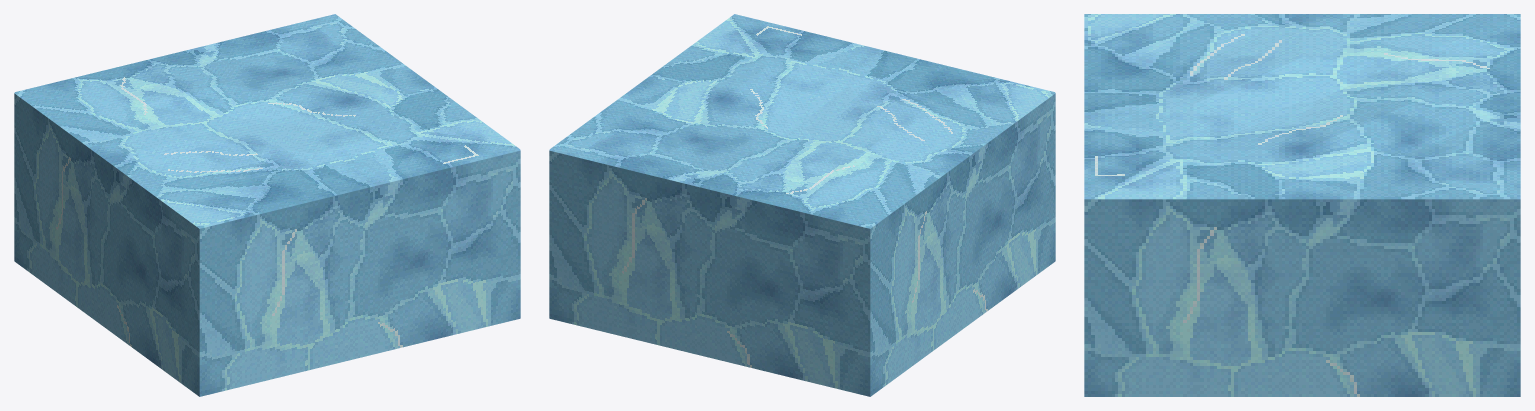
The model's file is bloco_caverna_de_gelo.glb.
3 renders of one model, left to right at view 1: azimuth 30°, elevation 25°; view 2: azimuth 150°, elevation 25°; view 3: azimuth 270°, elevation 25°, orthographic. The views are drawn at different scales.
Parts seen in each view (by area): view 1: bloco_caverna_de_gelo; view 2: bloco_caverna_de_gelo; view 3: bloco_caverna_de_gelo.
Part boxes in pixels (box(x1,y1,x2,y2)): bloco_caverna_de_gelo: box(14, 14, 520, 396); bloco_caverna_de_gelo: box(549, 14, 1055, 396); bloco_caverna_de_gelo: box(1084, 14, 1520, 396).
Size of the model in its own units: 2 by 1.02 by 2.
Materials: 1 (1 with a texture image).
